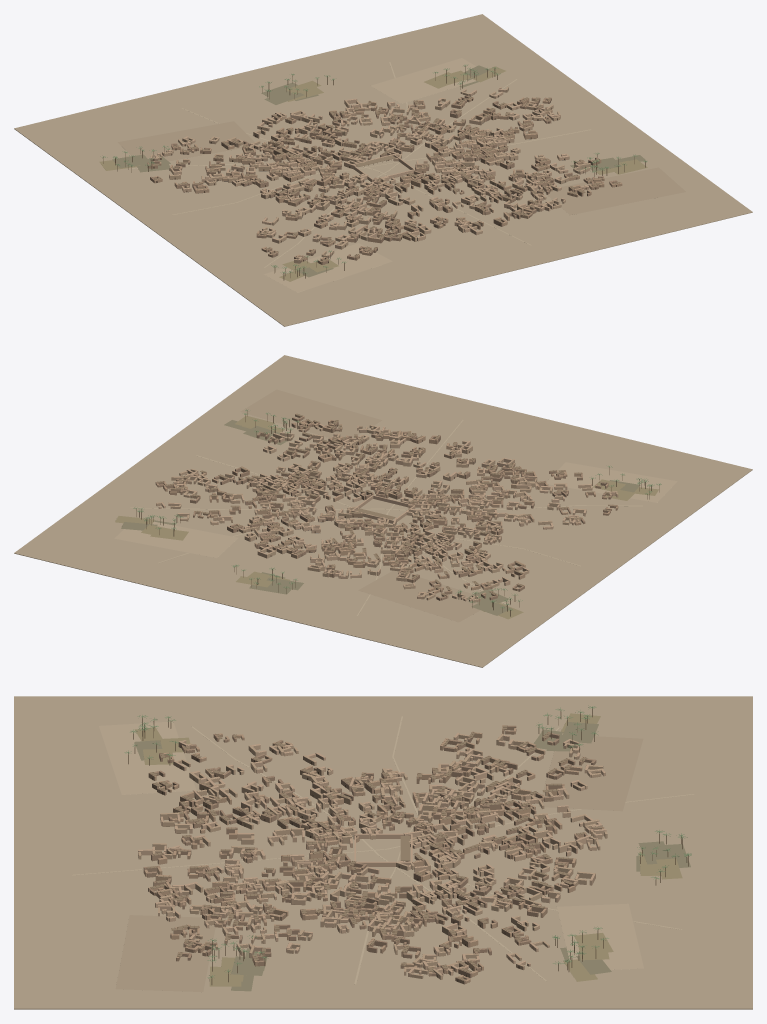
File: core.glb
3 renders of one model, top to bottom at view 1: azimuth 30°, elevation 25°; view 2: azimuth 150°, elevation 25°; view 3: azimuth 270°, elevation 25°, orthographic. The views are drawn at different scales.
Visible parts, largest first — view 1: core_ground, terrain_patch_2, terrain_patch_0, terrain_patch_3, terrain_patch_1; view 2: core_ground, terrain_patch_2, terrain_patch_0, terrain_patch_3, terrain_patch_1; view 3: core_ground, terrain_patch_2, terrain_patch_0, terrain_patch_3, terrain_patch_1, field_0_0, field_2_1, field_1_4.
Boxes of the visible parts, bbox=[...] form: core_ground: bbox=[14, 14, 752, 326]; terrain_patch_2: bbox=[544, 167, 685, 215]; terrain_patch_0: bbox=[117, 121, 257, 161]; terrain_patch_3: bbox=[264, 243, 392, 292]; terrain_patch_1: bbox=[370, 58, 476, 103]; core_ground: bbox=[14, 355, 752, 667]; terrain_patch_2: bbox=[240, 389, 382, 438]; terrain_patch_0: bbox=[358, 570, 480, 622]; terrain_patch_3: bbox=[546, 462, 677, 502]; terrain_patch_1: bbox=[114, 521, 238, 557]; core_ground: bbox=[14, 696, 752, 1009]; terrain_patch_2: bbox=[115, 915, 215, 992]; terrain_patch_0: bbox=[538, 736, 643, 811]; terrain_patch_3: bbox=[99, 721, 196, 794]; terrain_patch_1: bbox=[557, 903, 643, 969]; field_0_0: bbox=[560, 722, 598, 743]; field_2_1: bbox=[209, 966, 241, 986]; field_1_4: bbox=[578, 941, 609, 960].
Bounding box in the file's own units: 470 × 9.24 × 470.
